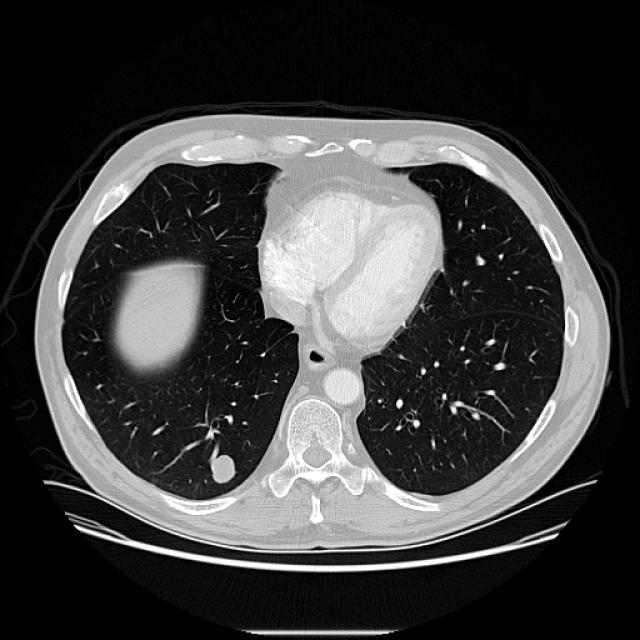nodule: (194, 439, 251, 496)
